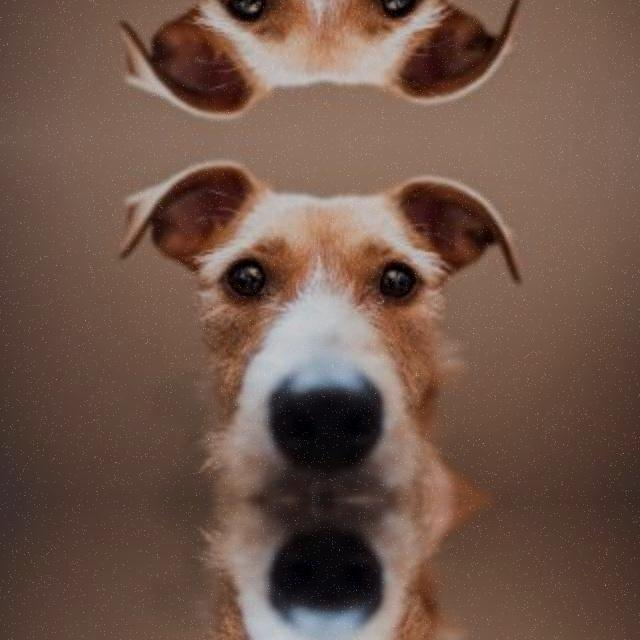dog: (114, 156, 532, 500), (115, 500, 532, 640), (115, 0, 532, 124)
